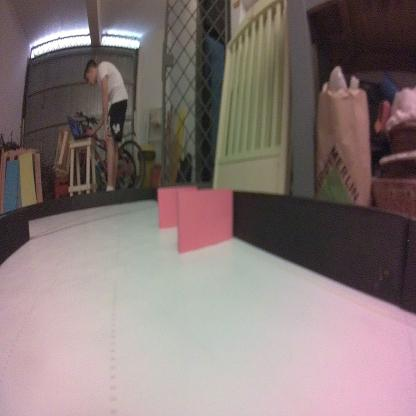magenta: (175, 186, 235, 250), (156, 184, 196, 227)
